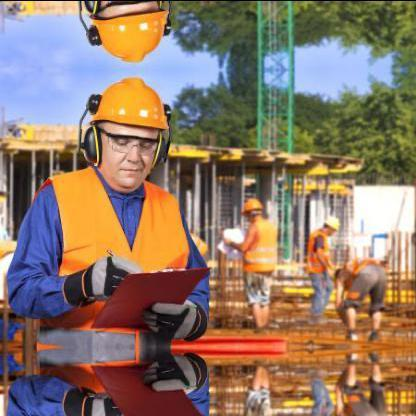Helmet: (80, 76, 172, 188), (79, 0, 173, 60), (240, 194, 260, 218), (322, 213, 338, 235)
